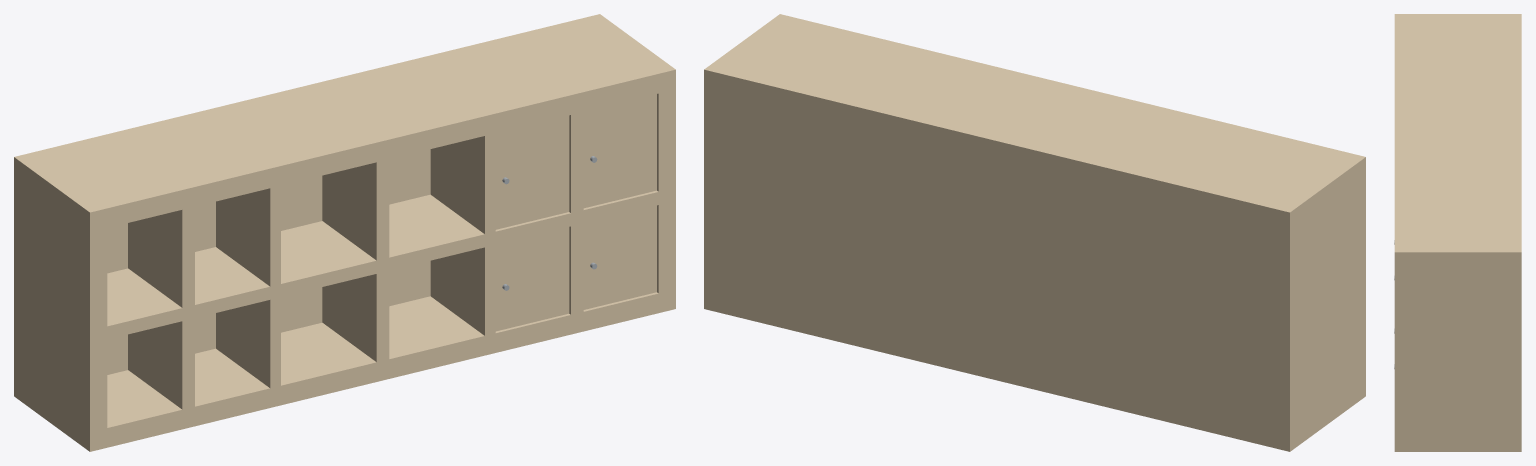
File: Closet_Type_2.fbx
The picture shows the model from 3 angles, left to right: view 1: azimuth 30°, elevation 25°; view 2: azimuth 150°, elevation 25°; view 3: azimuth 270°, elevation 25°; orthographic projection. The views are drawn at different scales.
Visible parts, largest first — view 1: Closet_Type_2; view 2: Closet_Type_2; view 3: Closet_Type_2.
Boxes of the visible parts, x1,y1,x2,y2 form: Closet_Type_2: (14, 14, 675, 451); Closet_Type_2: (704, 14, 1365, 451); Closet_Type_2: (1394, 14, 1521, 451).
Bounding box in the file's own units: 187 × 73 × 42.12.
